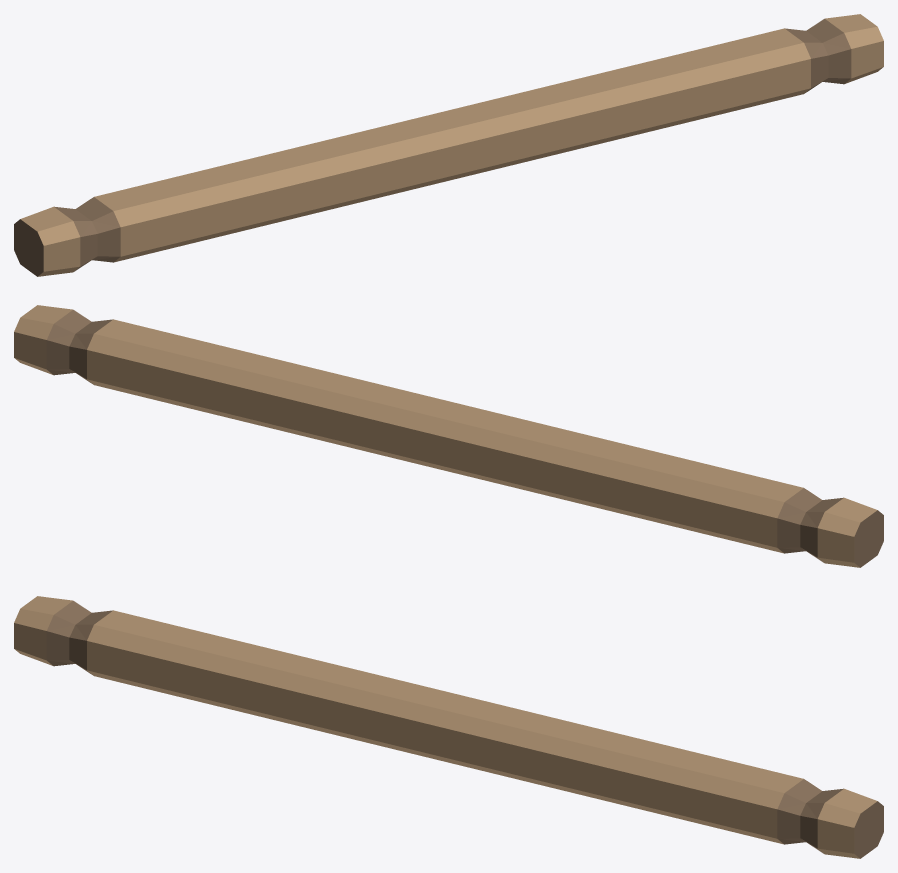
Rendered from laft_log_4m.glb.
3 renders of one model, top to bottom at view 1: azimuth 30°, elevation 25°; view 2: azimuth 150°, elevation 25°; view 3: azimuth 330°, elevation 25°, orthographic.
Visible parts, largest first — view 1: laft_log_4m; view 2: laft_log_4m; view 3: laft_log_4m.
Part boxes in pixels (x1=…): laft_log_4m: x1=14, y1=14, x2=883, y2=276; laft_log_4m: x1=14, y1=305, x2=883, y2=567; laft_log_4m: x1=14, y1=596, x2=883, y2=858.
Bounding box in the file's own units: 4.6 × 0.2688 × 0.32.
